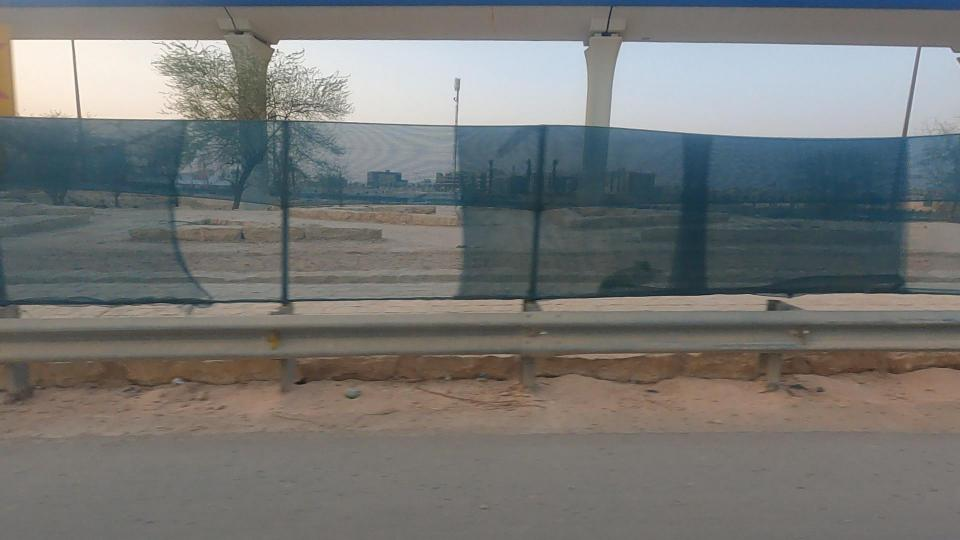CONSTRUCTION_ROAD: (290, 65, 960, 390), (0, 72, 442, 391)
